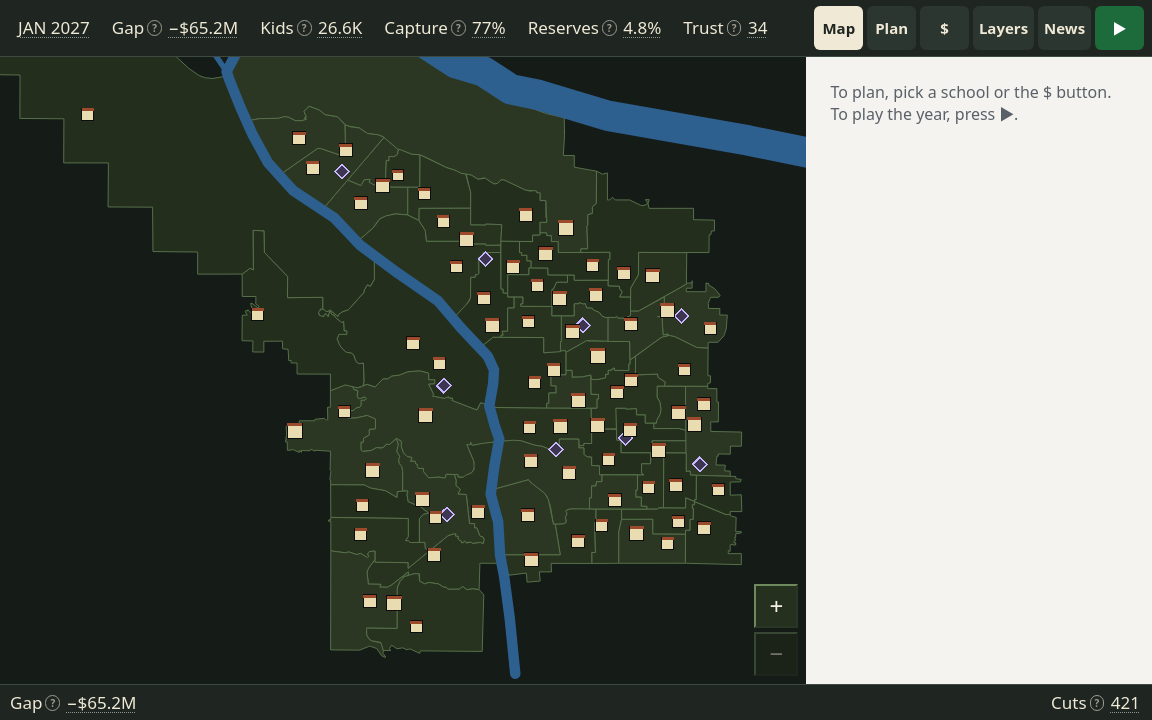
it: App › goes back from the pre-flight sheet without playing
Click the button named "Play the year".
click(1120, 28)  # box [1095, 6, 1144, 50]
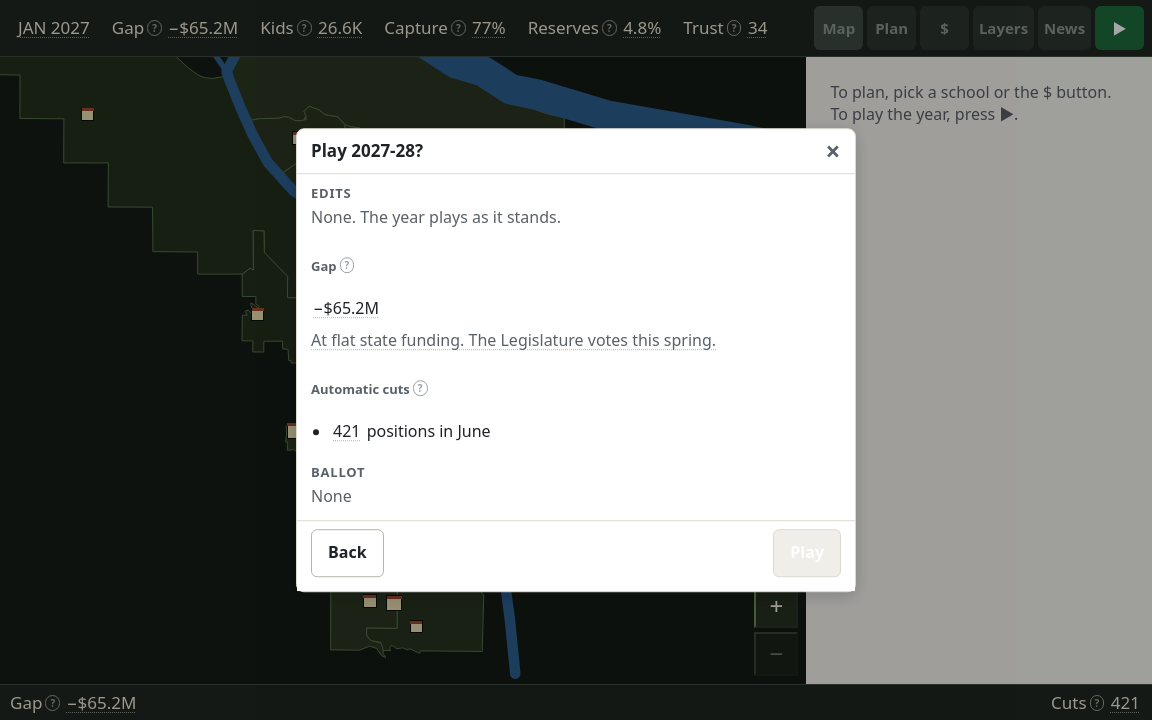
Click the button "Back".
click(347, 553)  # box [311, 529, 384, 577]
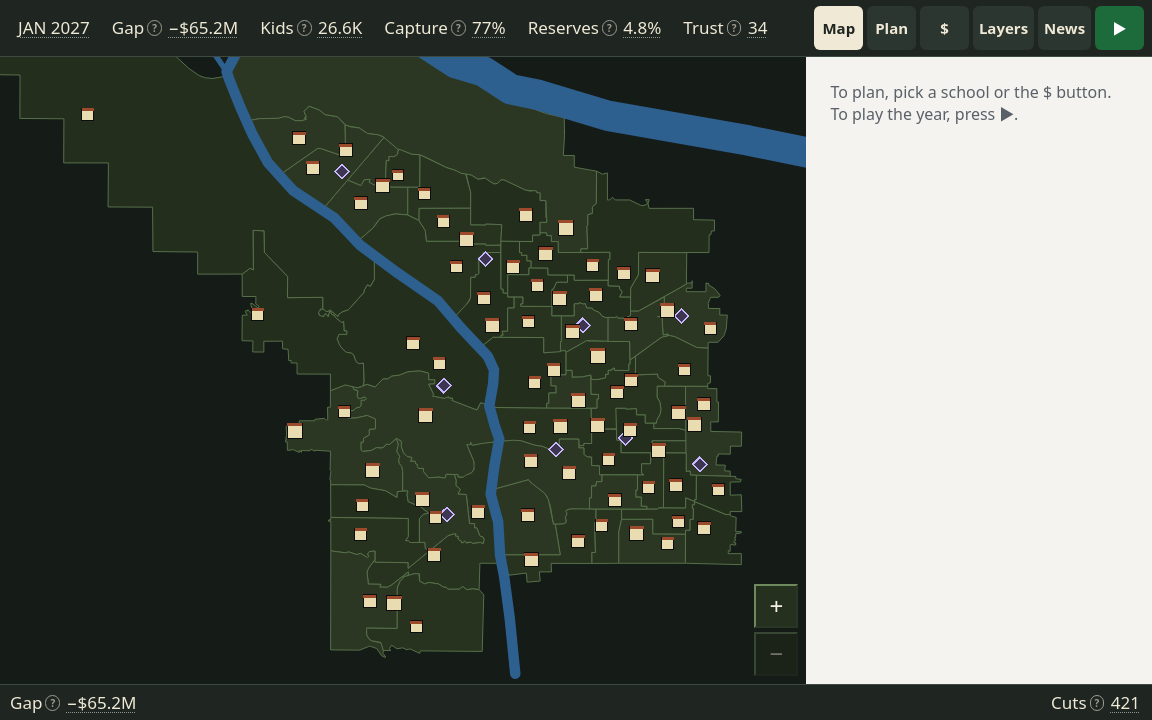
Check: the text "Play 2027-28?" is gone
